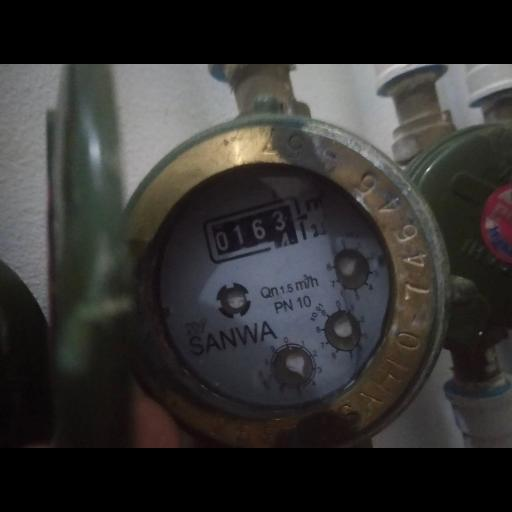0: (209, 221, 236, 256)
1: (228, 216, 255, 251)
3: (264, 204, 298, 248)
6: (245, 210, 273, 246)
border_water_meter_number: (199, 195, 309, 266)
